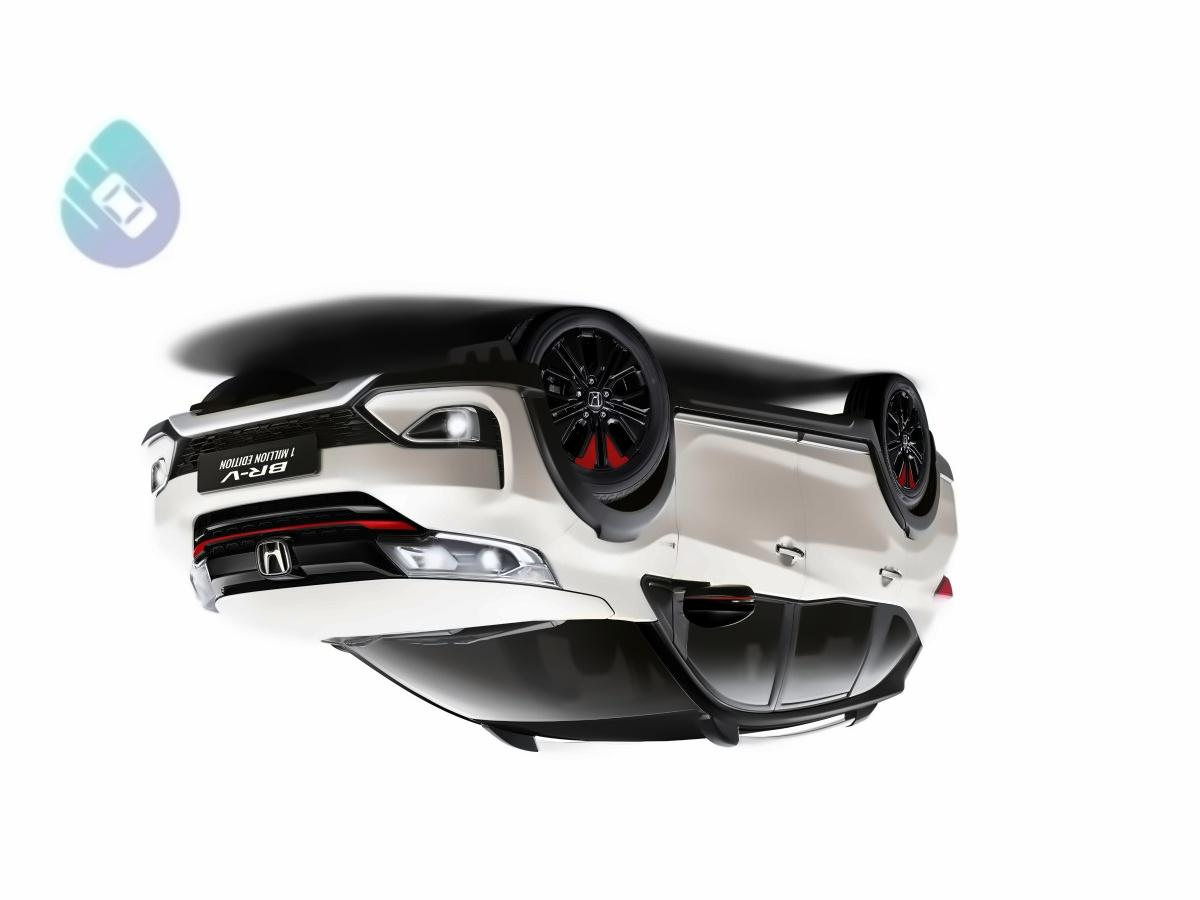Car hood: (192, 575, 628, 638)
Driver-s door - -F-R-: (674, 415, 812, 718)
Fender - -F-R-: (493, 375, 715, 589)
Fender - -R-R-: (855, 400, 951, 646)
Front bumper: (98, 378, 587, 516)
Headlight - -L-: (175, 545, 246, 612)
Headlight - -R-: (370, 523, 581, 600)
Passenger-s door - -R-R-: (797, 423, 898, 705)
Rear bumper: (925, 433, 972, 521)
Rear light - -R-: (919, 573, 974, 630)
Side bumper - -R-: (663, 383, 890, 453)
Side mirror - -R-: (667, 569, 773, 635)
